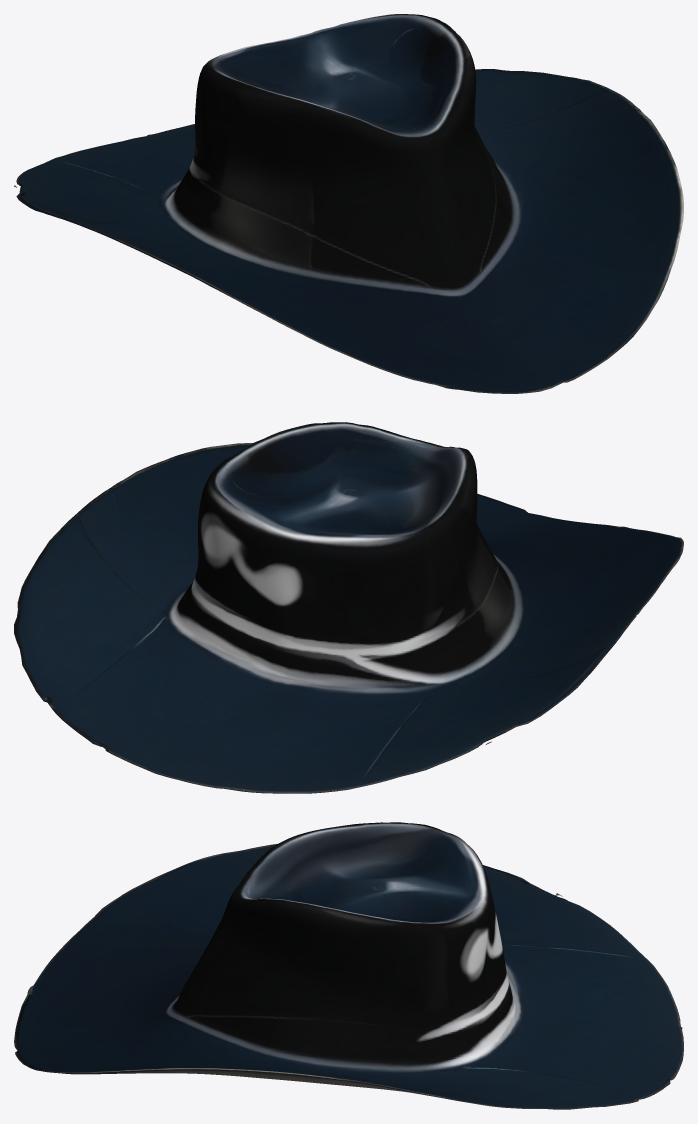
Rendered from Hat_Icon_in_Circle_1101082034.glb.
3 renders of one model, top to bottom at view 1: azimuth 30°, elevation 25°; view 2: azimuth 150°, elevation 25°; view 3: azimuth 270°, elevation 25°, orthographic. The views are drawn at different scales.
Bounding box in the file's own units: 1.73 × 0.5843 × 1.99.
1 material, 1 textured.
